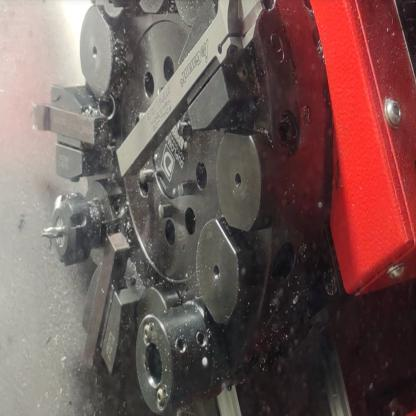bit: (111, 0, 284, 189), (74, 222, 146, 382), (24, 74, 116, 186)
